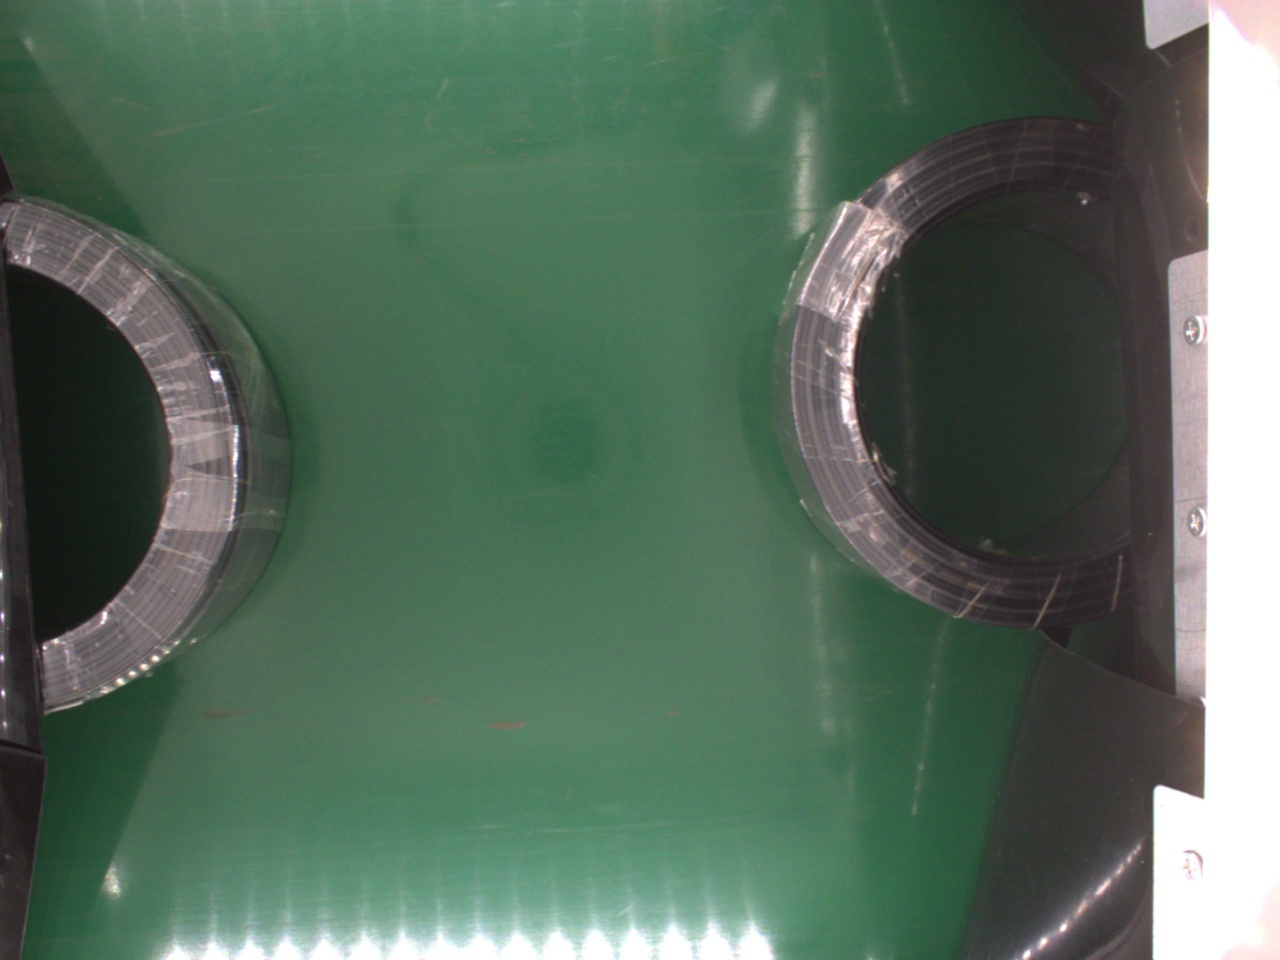black: (775, 115, 1148, 624), (8, 190, 290, 709)
